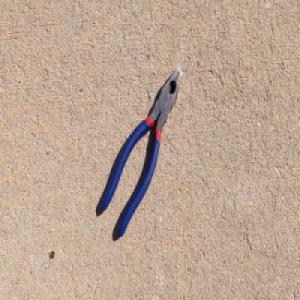Pliers: (99, 65, 182, 240)
